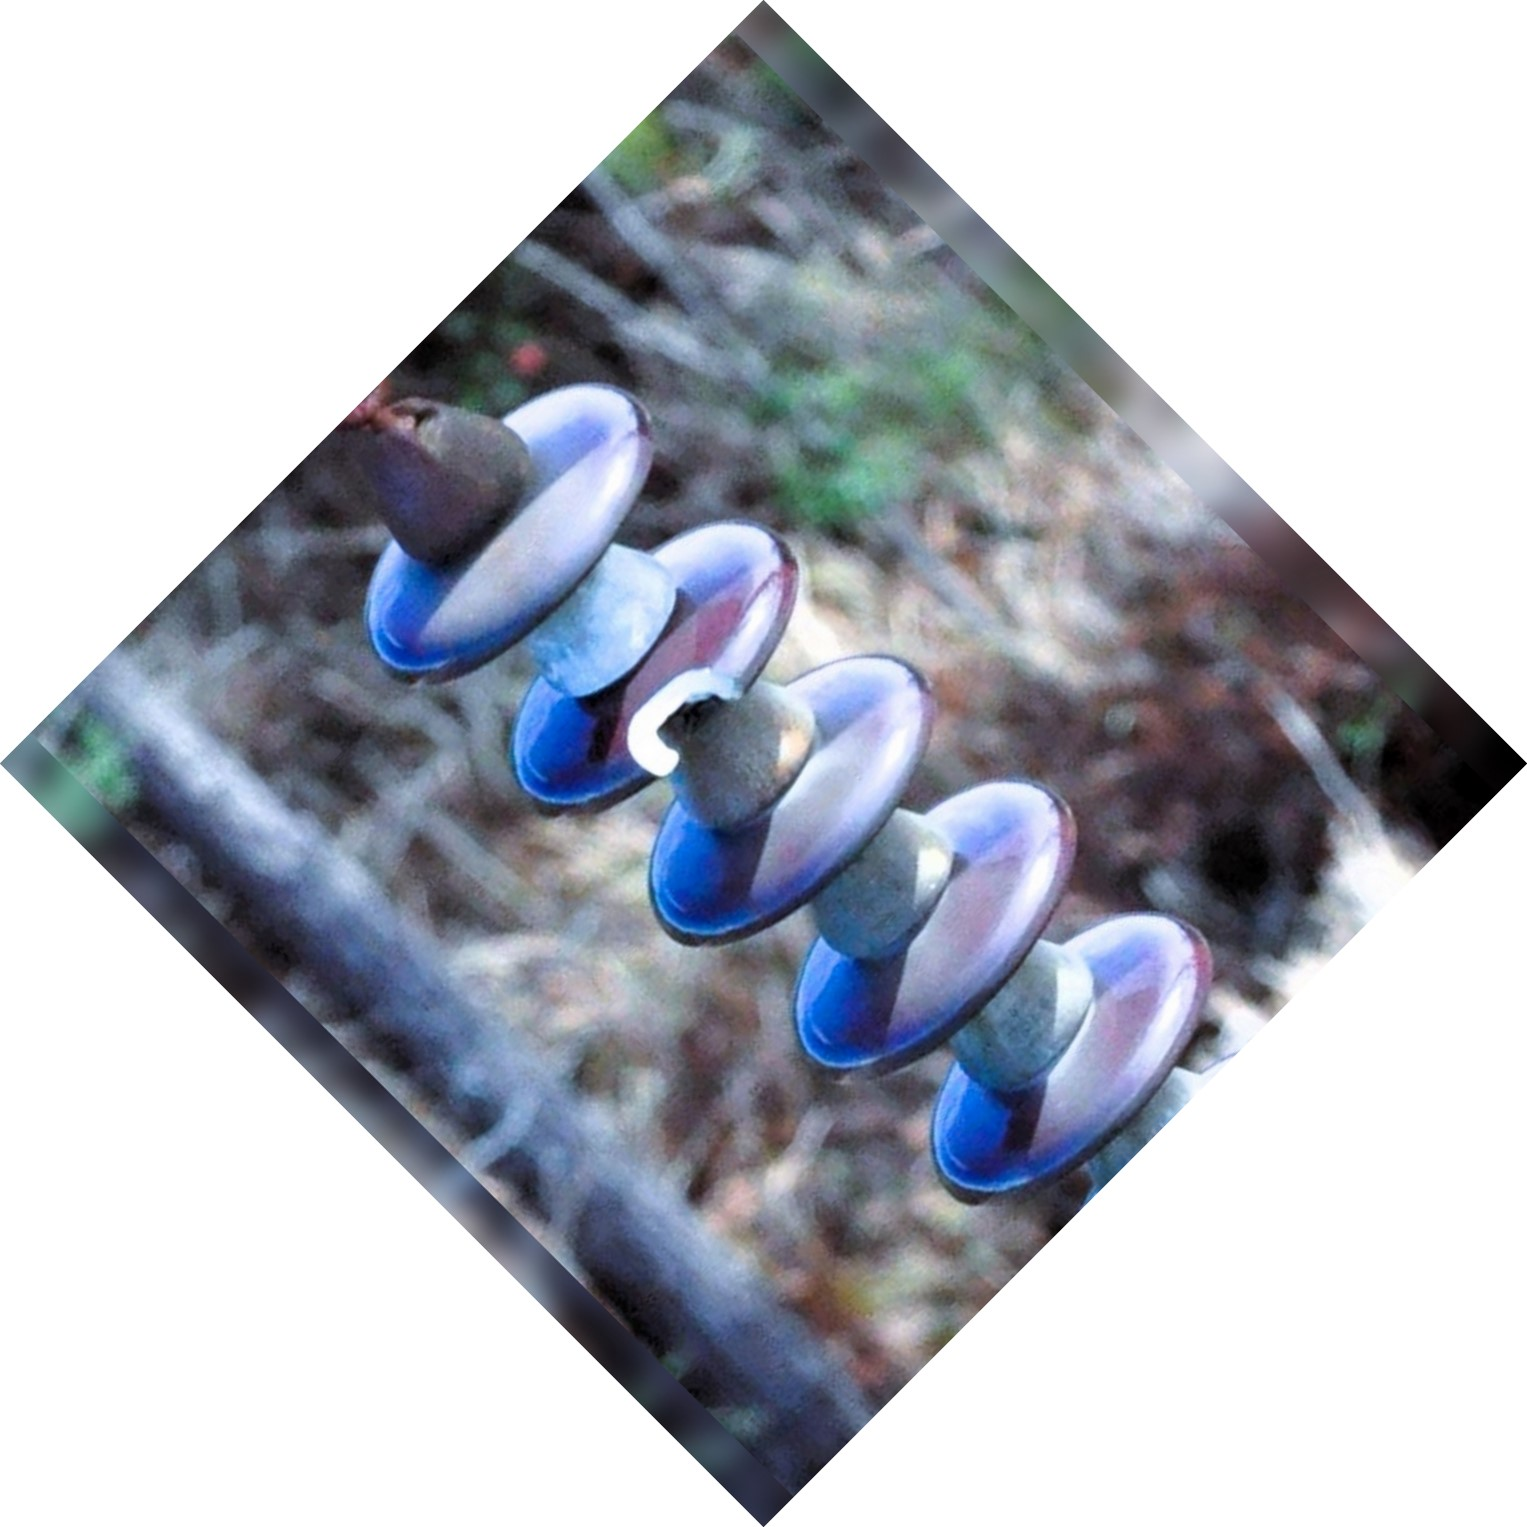insulator breakage: (501, 520, 822, 818)
